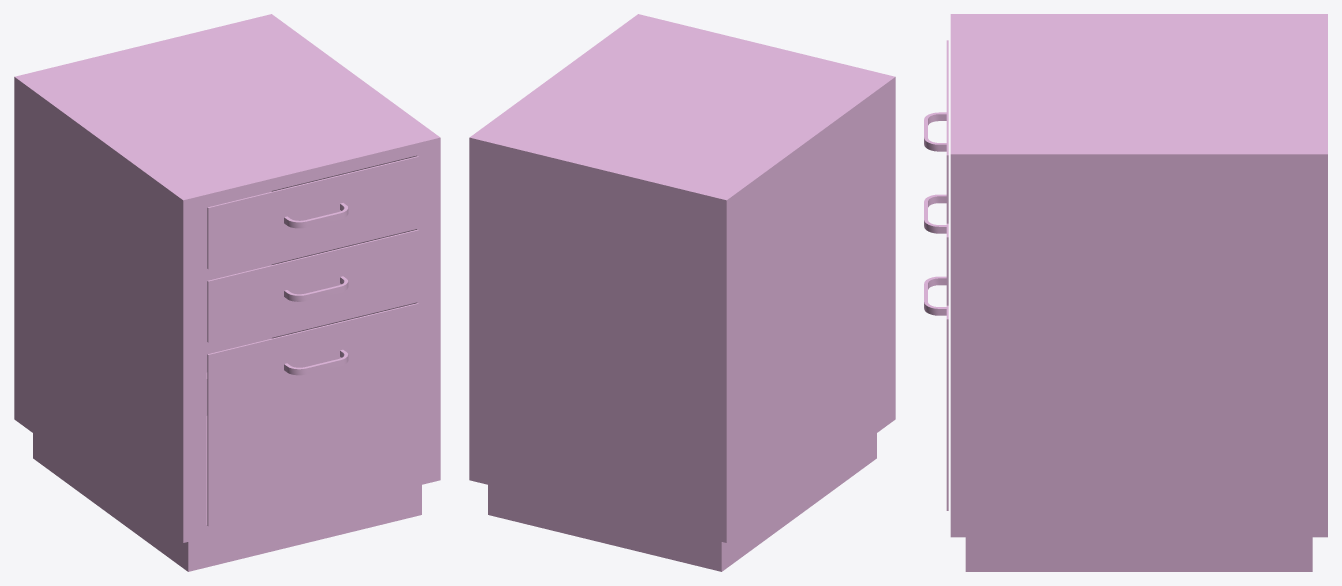
Rendered from cubicle_desk_drawers_model.fbx.
3 views of the same model, side by side, from view 1: azimuth 30°, elevation 25°; view 2: azimuth 150°, elevation 25°; view 3: azimuth 270°, elevation 25° (orthographic). The views are drawn at different scales.
Visible parts, largest first — view 1: cubicle_desk_drawers_model; view 2: cubicle_desk_drawers_model; view 3: cubicle_desk_drawers_model.
Part boxes in pixels (x1,y1,x2,y2): cubicle_desk_drawers_model: [14, 14, 440, 571]; cubicle_desk_drawers_model: [469, 14, 895, 571]; cubicle_desk_drawers_model: [924, 14, 1327, 571].
Bounding box in the file's own units: 2200 × 3100 × 2675.
